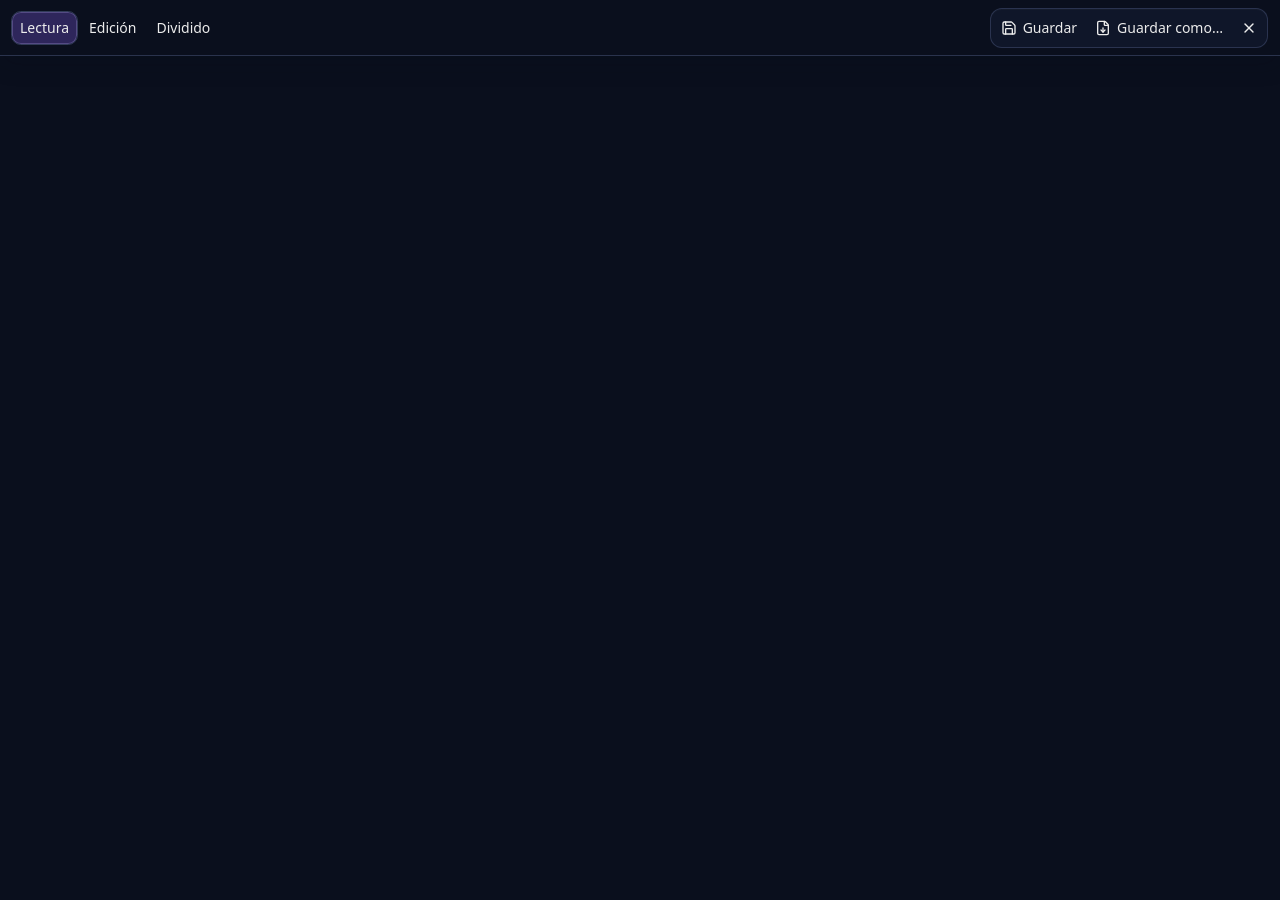
Test: Exportar a PDF (Fase 17) › sin window.print avisa y no deja nada montado
What coordinates should you click on to do the following:
click the button "Guardar como…"
I would click on:
 (1159, 28)
Its box is [1087,12,1231,44].
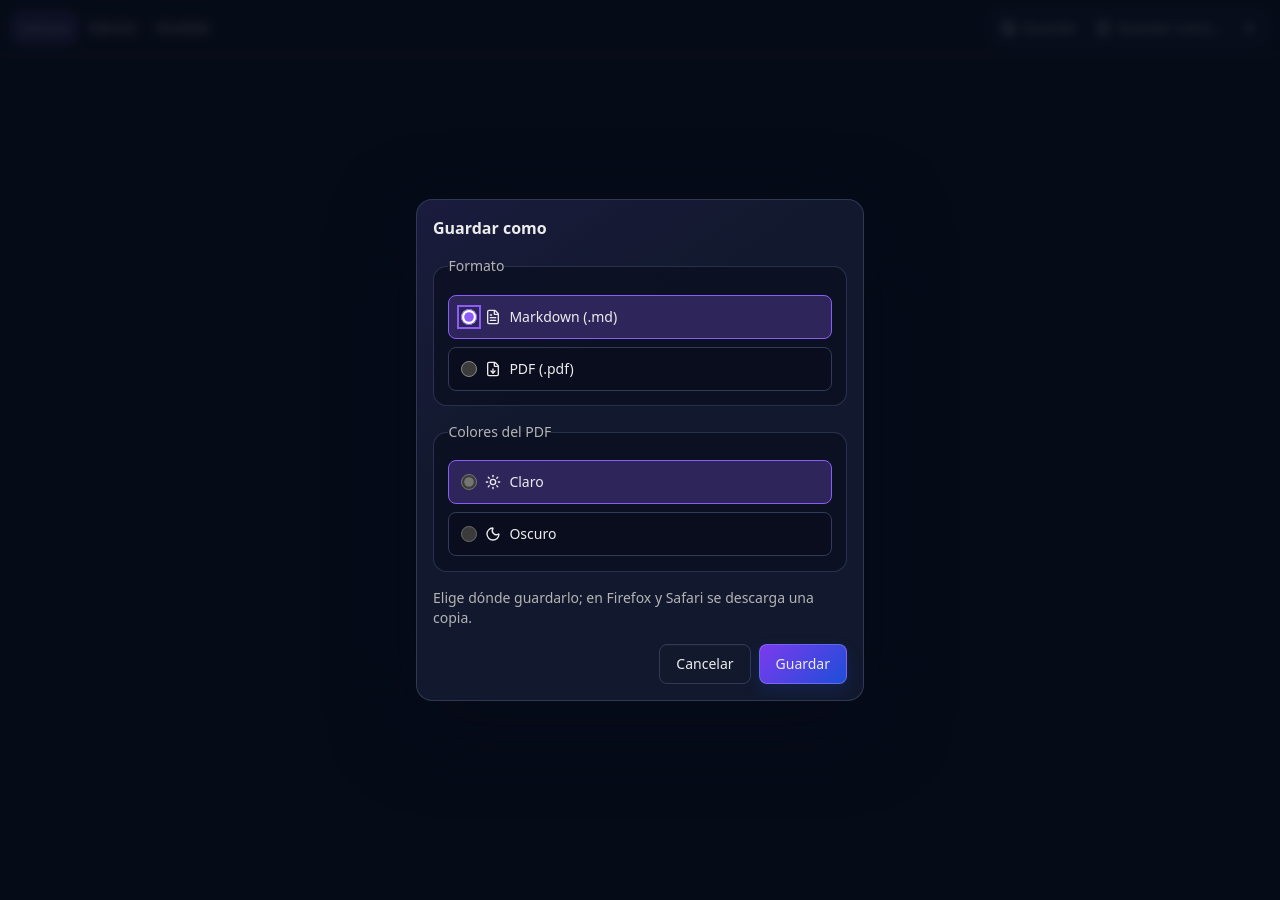
What coordinates should you click on to do the following:
click the radio button labelled "PDF (.pdf)"
I would click on:
 (469, 369)
Its box is [461,361,477,377].
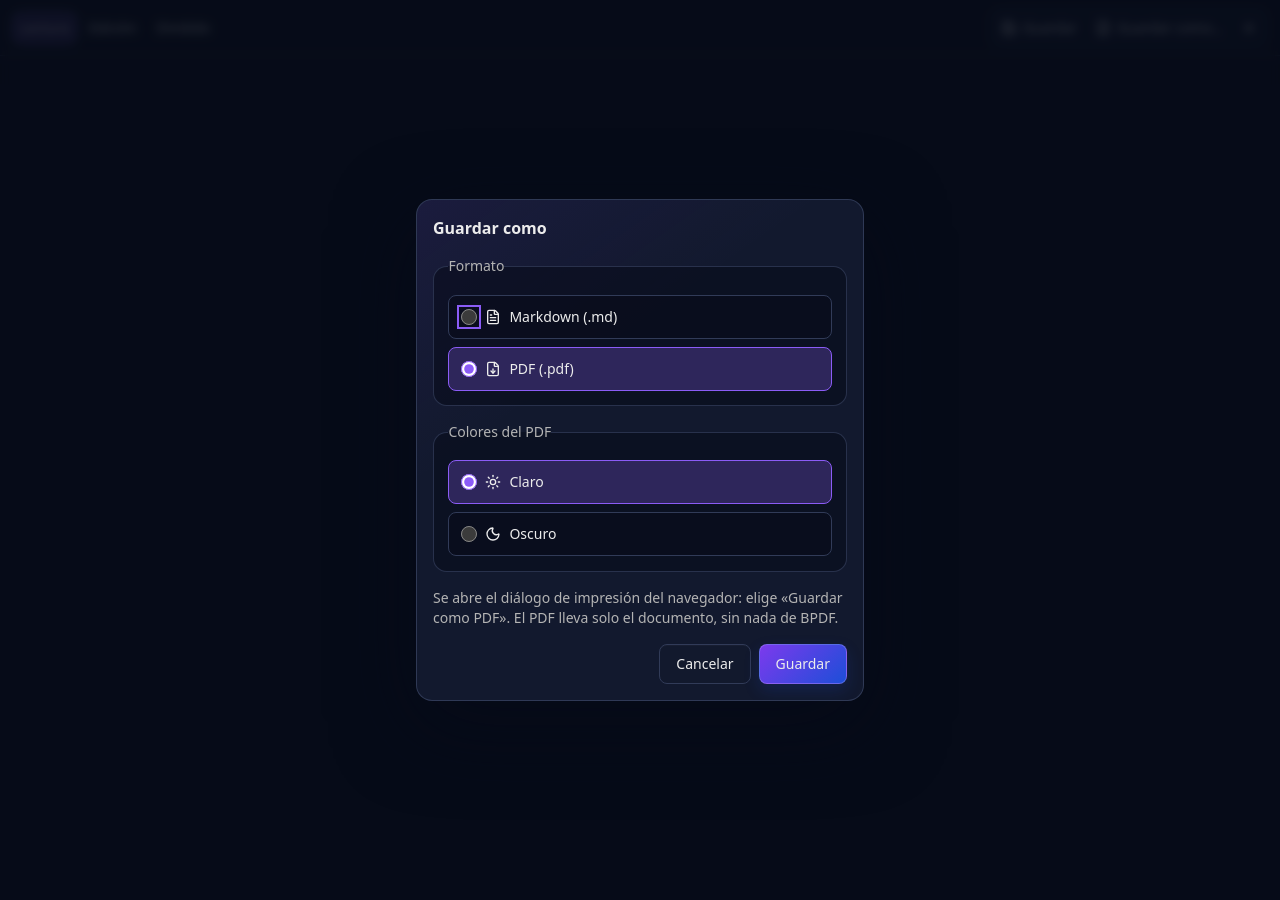
What coordinates should you click on to do the following:
click the button "Guardar"
I would click on:
 (803, 664)
Its box is [758,644,847,684].
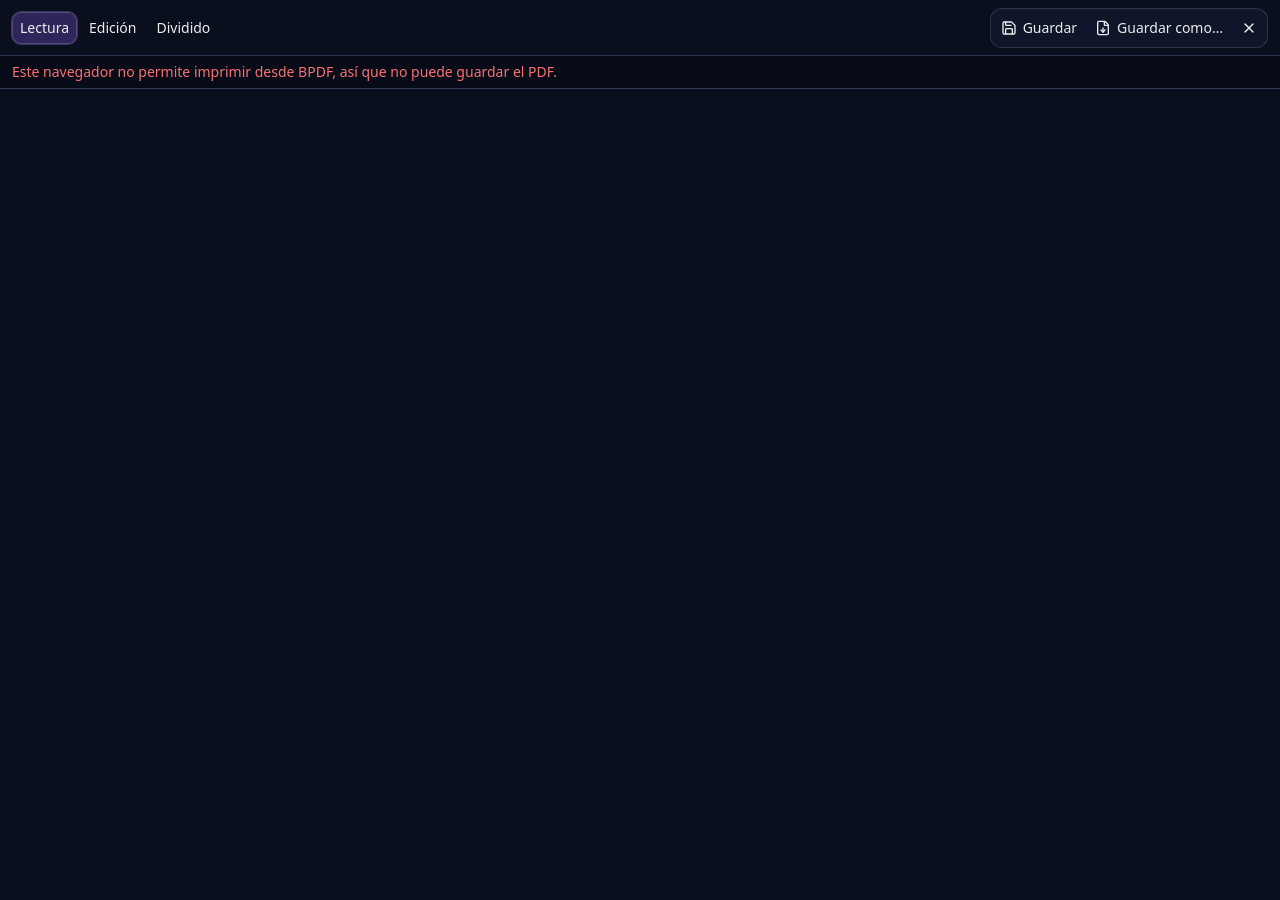
Result: the message reads "Este navegador no permite imprimir desde BPDF, así que no puede guardar el PDF." at [12,62,557,81]
